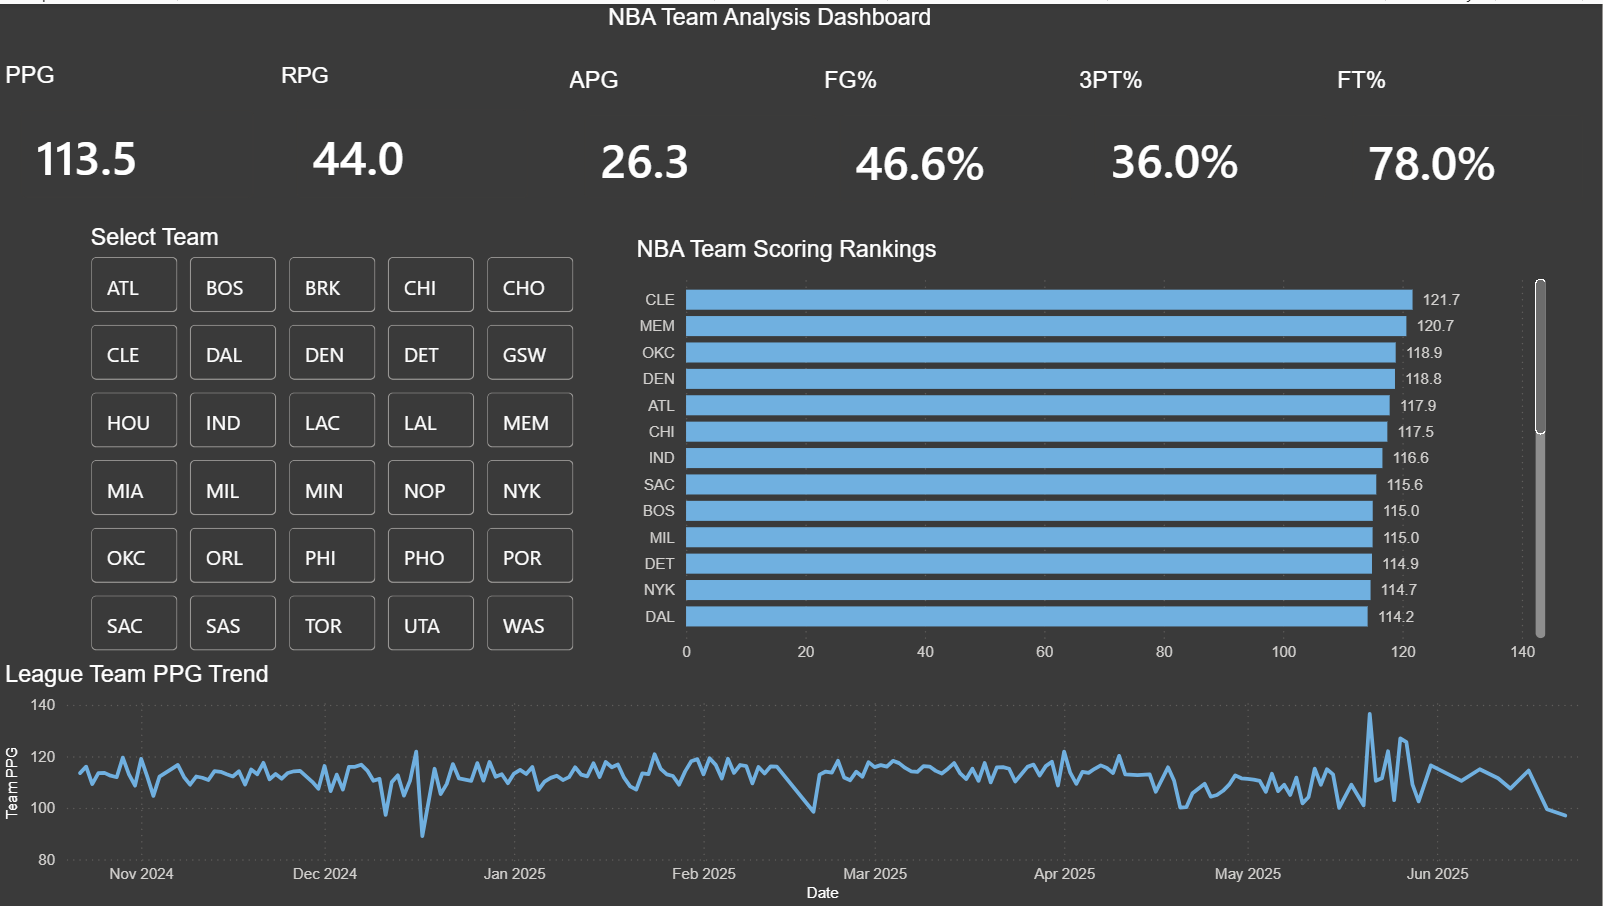

The dashboard page shown, as its layout file describes it:
{"tool":"powerbi","page":{"name":"Team Analysis","canvas":[1280,720],"ordinal":2},"visuals":[{"type":"textbox","box":[480.9,0,289.2,46.5],"z":0},{"type":"cardVisual","title":"PPG","fields":{"Data":["Measures_Table.Team PPGFinal"]},"box":[0,46.5,220.7,125.4],"z":1000},{"type":"cardVisual","title":"APG","fields":{"Data":["Measures_Table.Team APG"]},"box":[449.5,49.9,219.5,122],"z":2000},{"type":"cardVisual","title":"FG%","fields":{"Data":["Measures_Table.Team FG%2"]},"box":[653.9,49.9,219.5,125.4],"z":3000},{"type":"cardVisual","title":"RPG","fields":{"Data":["Measures_Table.Team RPG2"]},"box":[220.7,46.5,219.5,125.4],"z":4000},{"type":"cardVisual","title":"3PT%","fields":{"Data":["Measures_Table.Team 3PT%"]},"box":[857.2,49.9,219.5,122],"z":5000},{"type":"cardVisual","title":"FT%","fields":{"Data":["Measures_Table.Team FT%"]},"box":[1062.8,49.9,218.4,125.4],"z":6000},{"type":"advancedSlicerVisual","title":"Select Team","fields":{"Values":["Dim_Team.Tm"]},"box":[68.2,176,395,348.3],"z":7000},{"type":"clusteredBarChart","title":"NBA Team Scoring Rankings","fields":{"Category":["Dim_Team.Tm"],"Y":["Measures_Table.Team PPG"]},"box":[503.9,185.5,735,347.1],"z":8000},{"type":"lineChart","fields":{"Category":["Dim_Date.Date"],"Y":["Measures_Table.Team PPG"]},"box":[0,524.3,1279.6,196.3],"z":9000}]}

Visuals, with their boxes in screenshot pixels (x1, y1, x2, y2), scaled from the page's 1280x720 canvas onto the 1603x906 screenshot:
textbox: (602, 0, 964, 59)
"PPG" cardVisual: (0, 59, 276, 216)
"APG" cardVisual: (563, 63, 838, 216)
"FG%" cardVisual: (819, 63, 1094, 221)
"RPG" cardVisual: (276, 59, 551, 216)
"3PT%" cardVisual: (1074, 63, 1348, 216)
"FT%" cardVisual: (1331, 63, 1602, 221)
"Select Team" advancedSlicerVisual: (85, 221, 580, 660)
"NBA Team Scoring Rankings" clusteredBarChart: (631, 233, 1552, 670)
lineChart - Dim_Date.Date x Measures_Table.Team PPG: (0, 660, 1602, 905)
